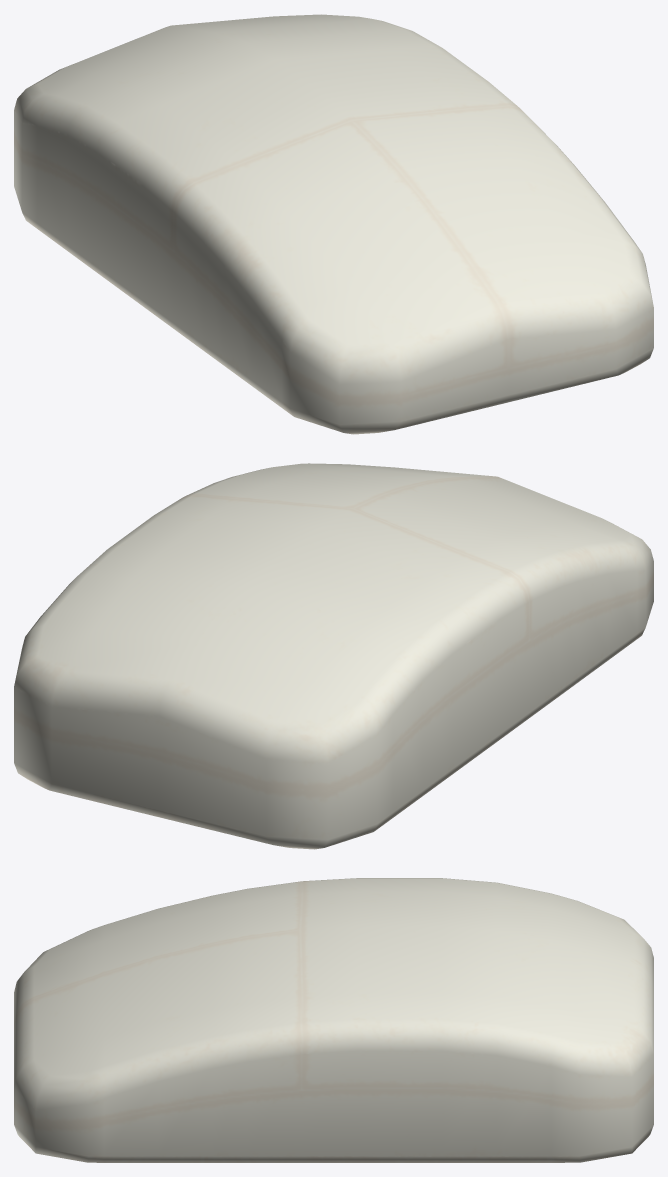
The model's file is mouse.glb.
The picture shows the model from 3 angles, top to bottom: view 1: azimuth 30°, elevation 25°; view 2: azimuth 150°, elevation 25°; view 3: azimuth 270°, elevation 25°; orthographic projection. The views are drawn at different scales.
Visible parts, largest first — view 1: Mouse_low; view 2: Mouse_low; view 3: Mouse_low.
Boxes of the visible parts, left/top/right/bottom form: Mouse_low: left=14, top=14, right=653, bottom=434; Mouse_low: left=14, top=463, right=653, bottom=849; Mouse_low: left=14, top=878, right=653, bottom=1162.
Bounding box in the file's own units: 6.57 × 3.13 × 11.19.
Materials: 1 (1 with a texture image).
